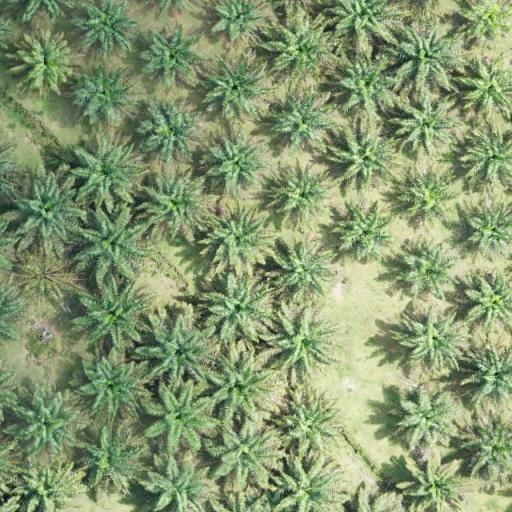Ganoderma: (28, 260, 64, 293), (470, 2, 507, 34)
